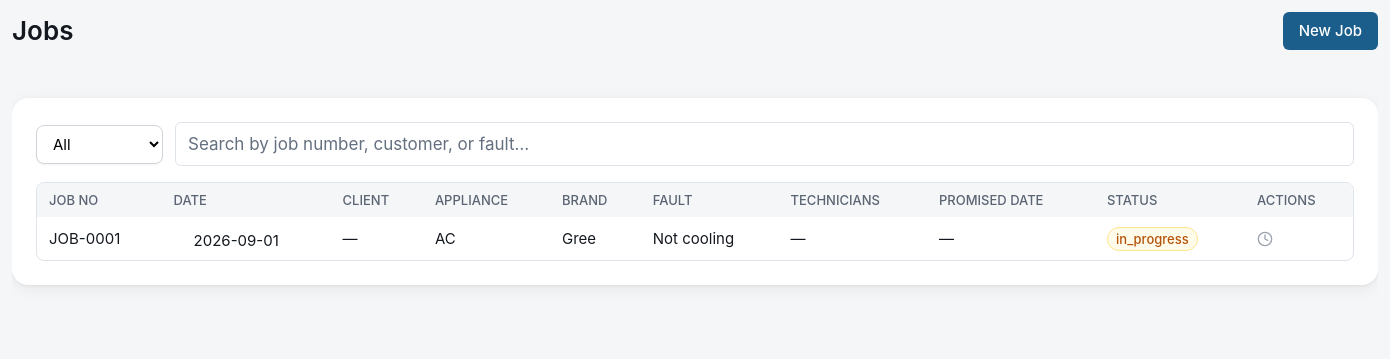
Test: JobsPage (P14-7 — search) › finds a job by job number, and shows empty state for text matching nothing
Expected: the text "JOB-0001" is shown, [37,217,162,260]
In the field named "Search jobs": (764, 144) [175,122,1354,166], type "JOB-0001"
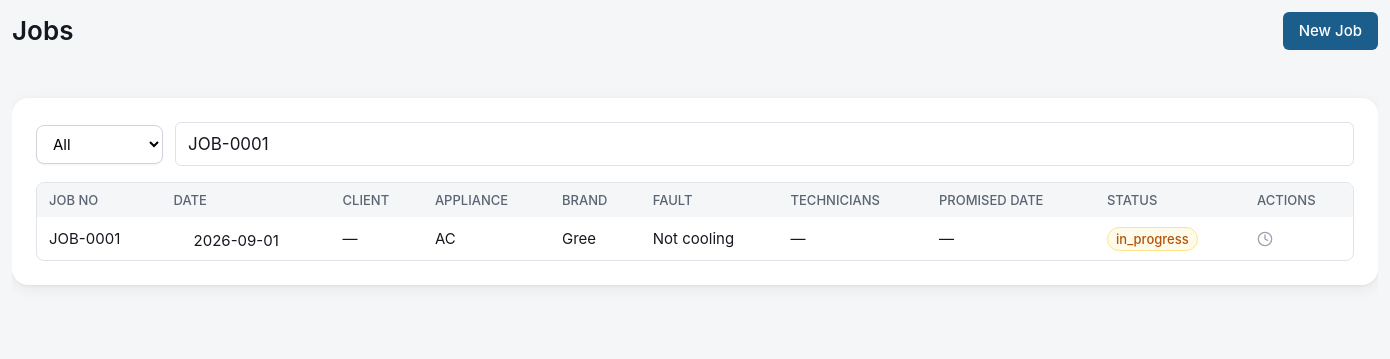
Expected: the text "JOB-0001" is shown, [37,217,162,260]
Replace the text in the field named "Search jobs" with "nonexistent-xyz": (764, 144) [175,122,1354,166]
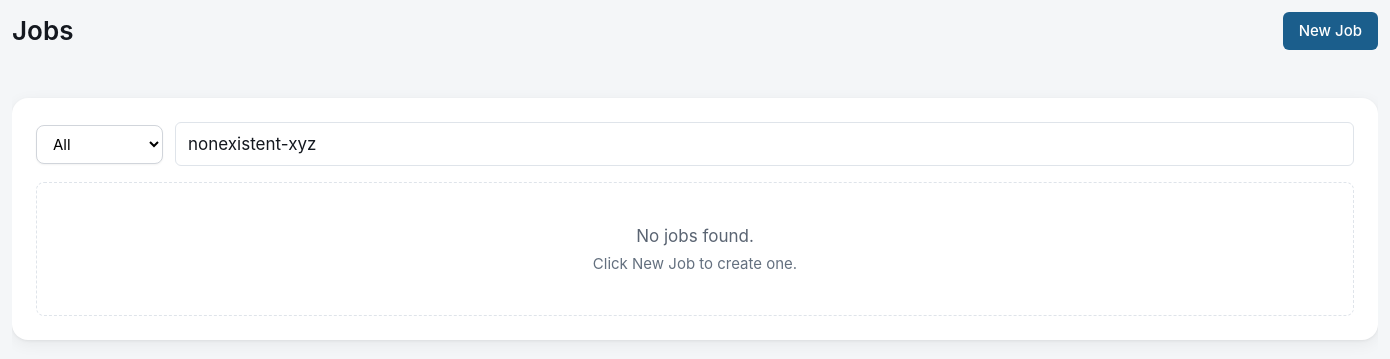
Expected: the text "No jobs found." is shown, [636,223,754,249]
